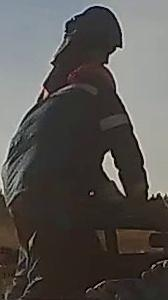gloves: (122, 174, 153, 218), (94, 181, 128, 211)
helmet: (65, 58, 121, 97)
vest: (0, 94, 124, 223)
